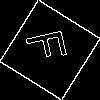F: (25, 25, 76, 65)
